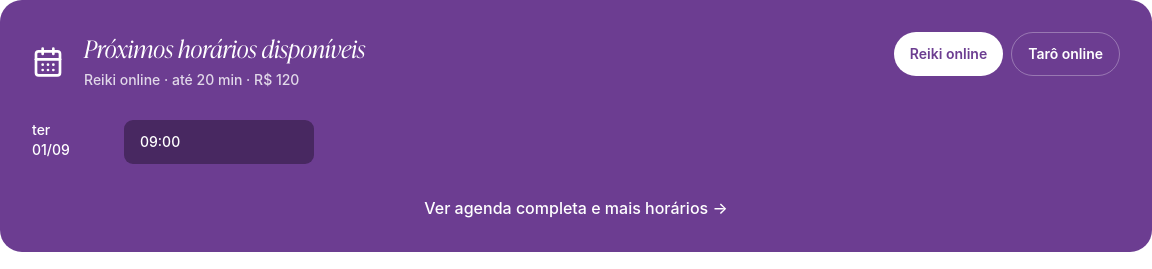
Test: AvailabilitySelector › switches registered service names without retaining stale service data
Check: the text "Reiki online · até 20 min · R$ 120" is shown, box [84,71,299,88]
Check: the link "10:15" is not shown
Click the button "Tarô online".
click(1066, 54)  # box [1011,32,1120,76]
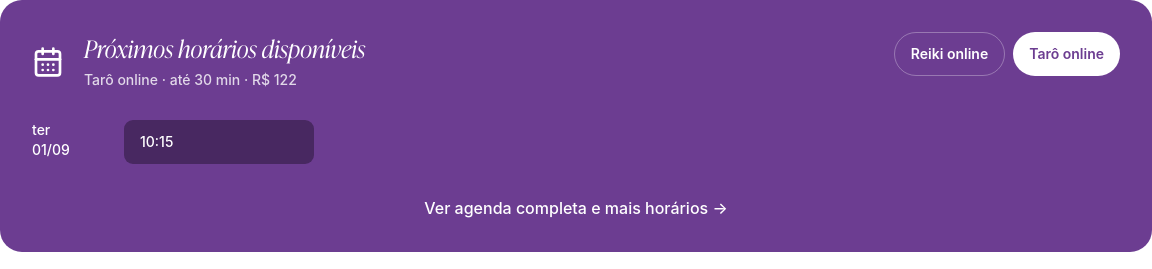
Check: the text "Tarô online · até 30 min · R$ 122" is shown, box [84,71,297,88]
Check: the link "09:00" is gone
Click the button "Reiki online".
click(949, 54)  # box [894,32,1005,76]
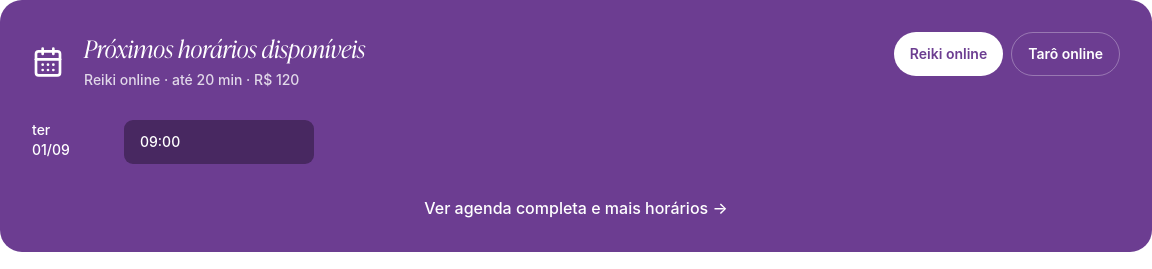
Check: the text "Reiki online · até 20 min · R$ 120" is shown, box [84,71,299,88]
Check: the link "10:15" is gone
